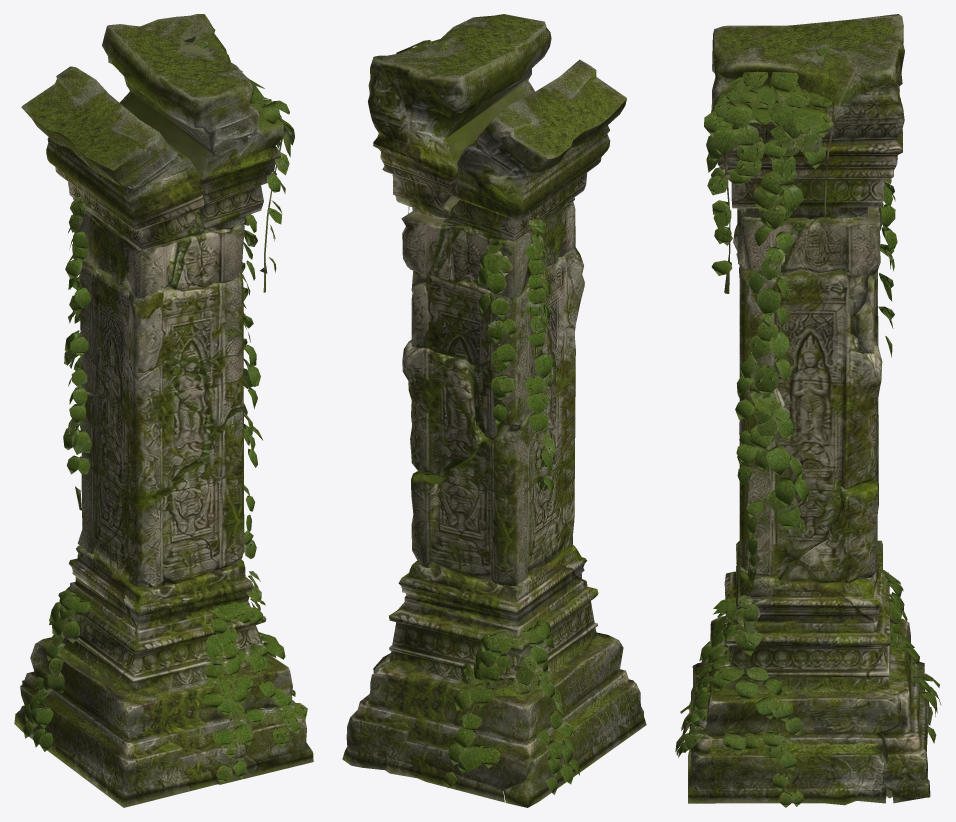
Rendered from prop_temple_pillar.glb.
3 views of the same model, side by side, from view 1: azimuth 30°, elevation 25°; view 2: azimuth 150°, elevation 25°; view 3: azimuth 270°, elevation 25° (orthographic). The views are drawn at different scales.
Size of the model in its own units: 0.2988 by 0.9521 by 0.313.
Materials: 1 (1 with a texture image).
